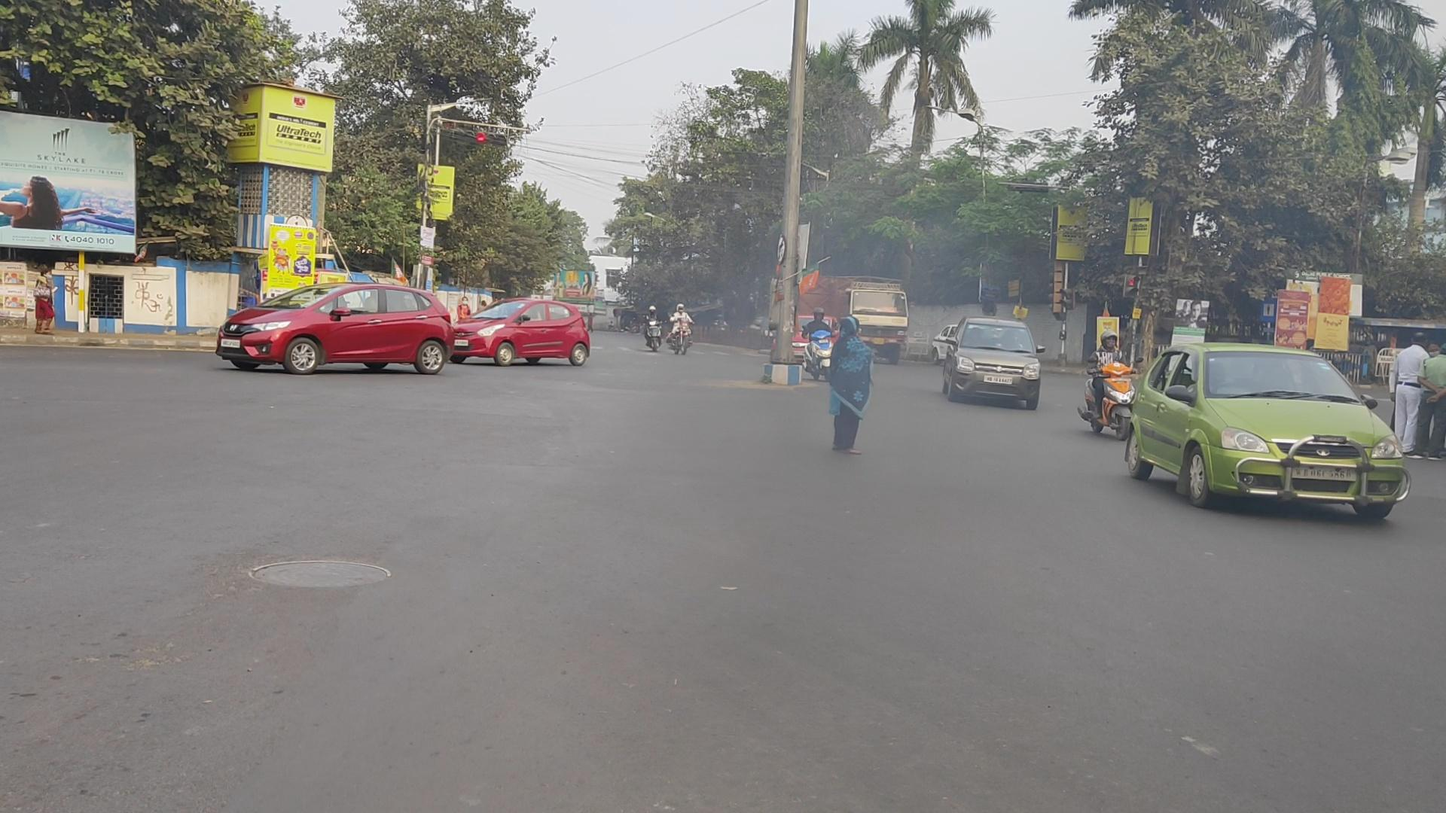bike: (1077, 329, 1145, 441), (802, 308, 838, 380), (667, 303, 695, 355), (643, 305, 665, 353)
car: (1125, 342, 1411, 523), (218, 282, 455, 376), (450, 297, 591, 367), (943, 316, 1046, 410), (770, 315, 851, 370)
truck: (770, 276, 909, 367)
